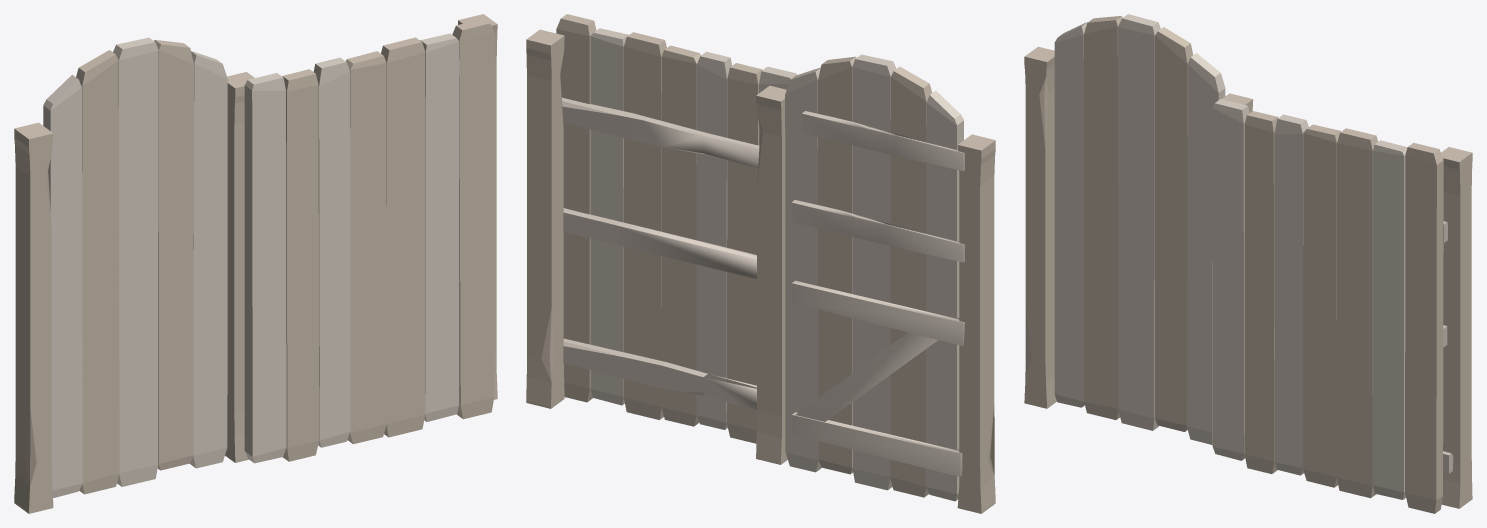
File: fence_wood_gate.fbx
3 views of the same model, side by side, from view 1: azimuth 30°, elevation 25°; view 2: azimuth 150°, elevation 25°; view 3: azimuth 330°, elevation 25° (orthographic). The views are drawn at different scales.
Visible parts, largest first — view 1: Gate, Gate_Open; view 2: Gate, Gate_Open; view 3: Gate, Gate_Open.
Boxes of the visible parts, x1,y1,x2,y2 form: Gate: (14, 14, 497, 513); Gate_Open: (43, 37, 227, 498); Gate: (526, 14, 995, 513); Gate_Open: (785, 54, 964, 501); Gate: (1024, 46, 1472, 513); Gate_Open: (1054, 14, 1225, 444).
Size of the model in its own units: 266 by 237 by 26.1.
